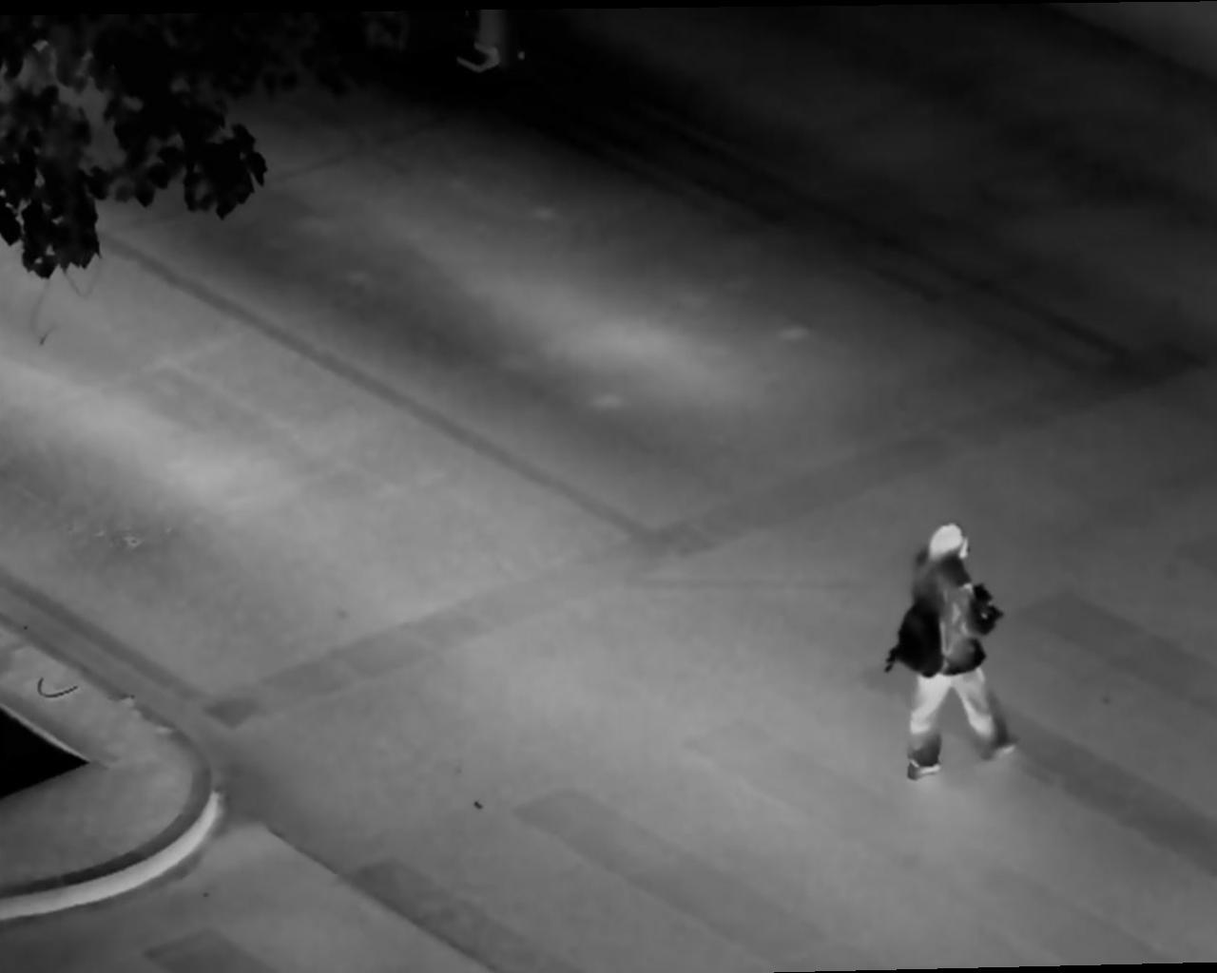person: (888, 515, 1018, 783)
